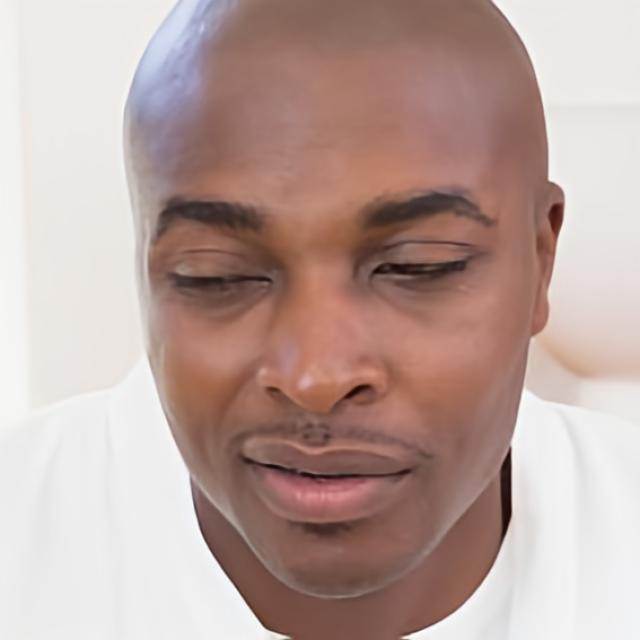sad: (119, 0, 536, 603)
